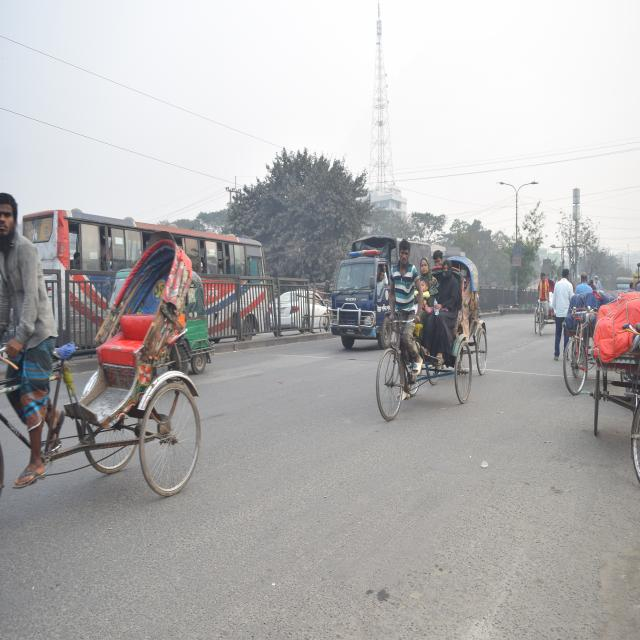bus: (46, 216, 306, 360)
car: (265, 277, 334, 346)
pickup-van: (329, 227, 431, 360)
